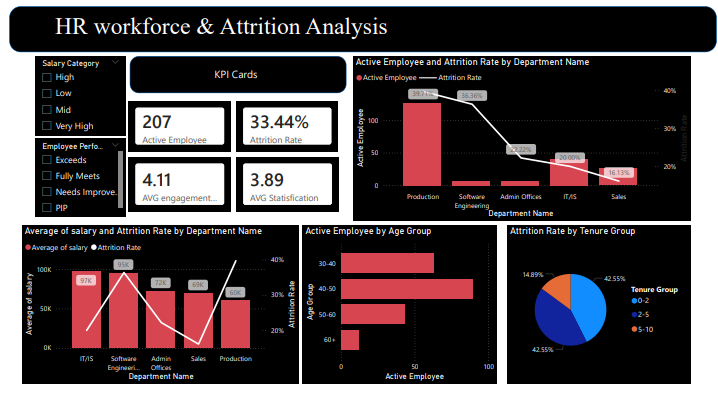

What the dashboard file says about the page in this screenshot:
{"tool":"powerbi","page":{"name":"Dashboard","canvas":[1280,720],"ordinal":0},"visuals":[{"type":"pieChart","fields":{"Category":["fact_employee_202604231644.tenure_group"],"Y":["Measure.Attrition Rate"]},"box":[901,396,332,286],"z":0},{"type":"cardVisual","fields":{"Data":["Measure.Active Employee"]},"box":[211,166,195,101],"z":1000},{"type":"cardVisual","fields":{"Data":["Measure.AVG Statisfication"]},"box":[406,267,195,109],"z":2000},{"type":"cardVisual","fields":{"Data":["Measure.AVG engagement survey"]},"box":[211,267,195,109],"z":3000},{"type":"cardVisual","fields":{"Data":["Measure.Attrition Rate"]},"box":[406,166,194,101],"z":4000},{"type":"barChart","fields":{"Y":["Measure.Active Employee"],"Category":["fact_employee_202604231644.age_group"]},"box":[531,396,351,286],"z":5000},{"type":"lineClusteredColumnComboChart","fields":{"Y":["Avg(fact_employee_202604231644.salary)"],"Y2":["Measure.Attrition Rate"],"Category":["dim_department_202604231643.department_name"]},"box":[23.3,395.9,499.9,286],"z":6000},{"type":"lineClusteredColumnComboChart","fields":{"Category":["dim_department_202604231643.department_name"],"Y":["Measure.Active Employee"],"Y2":["Measure.Attrition Rate"]},"box":[622,90,611,298],"z":7000},{"type":"shape","box":[0,0,1280,82.7],"z":8000},{"type":"textbox","box":[77.8,5.6,630,70],"z":9000},{"type":"slicer","fields":{"Values":["dim_salary_202604231643.salary_band"]},"box":[47,90,164,144],"z":10000},{"type":"shape","box":[218,90,392,67],"z":11000},{"type":"textbox","box":[361,104,99,39],"z":12000},{"type":"slicer","fields":{"Values":["dim_performance_202604231643.performance_score"]},"box":[47,239,164,142],"z":13000}]}

Visuals, with their boxes in screenshot pixels (x1, y1, x2, y2), scaled from the page's 1280x720 canvas onto the 718x404 screenshot:
pieChart - fact_employee_202604231644.tenure_group x Measure.Attrition Rate: select_region(505, 222, 692, 383)
cardVisual - Measure.Active Employee: select_region(118, 93, 228, 150)
cardVisual - Measure.AVG Statisfication: select_region(228, 150, 337, 211)
cardVisual - Measure.AVG engagement survey: select_region(118, 150, 228, 211)
cardVisual - Measure.Attrition Rate: select_region(228, 93, 337, 150)
barChart - Measure.Active Employee x fact_employee_202604231644.age_group: select_region(298, 222, 495, 383)
lineClusteredColumnComboChart - Avg(fact_employee_202604231644.salary) x Measure.Attrition Rate: select_region(13, 222, 293, 383)
lineClusteredColumnComboChart - dim_department_202604231643.department_name x Measure.Active Employee: select_region(349, 50, 692, 218)
shape: select_region(0, 0, 717, 46)
textbox: select_region(44, 3, 397, 42)
slicer - dim_salary_202604231643.salary_band: select_region(26, 50, 118, 131)
shape: select_region(122, 50, 342, 88)
textbox: select_region(202, 58, 258, 80)
slicer - dim_performance_202604231643.performance_score: select_region(26, 134, 118, 214)
